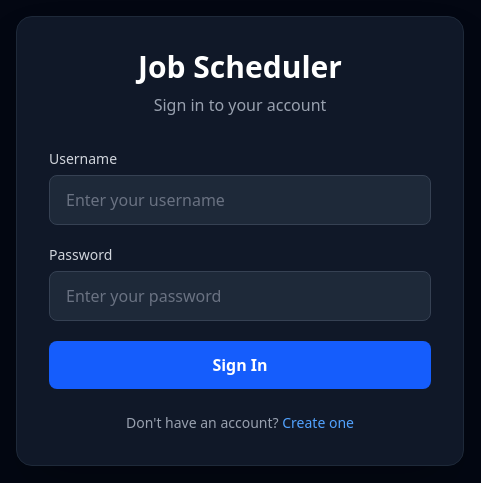
Login Page › shows Signing in... while submitting
This screenshot has width=481, height=483.
Type "test" into the field with placeholder "Enter your username".
click(240, 200); type("test")  # box [49,175,431,225]
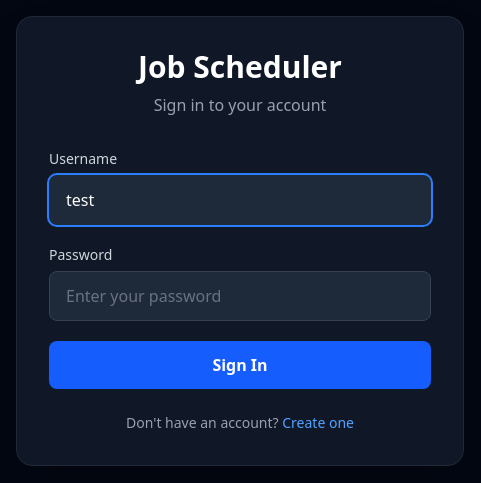
Type "pass" into the password field with placeholder "Enter your password".
click(240, 296); type("pass")  # box [49,271,431,321]
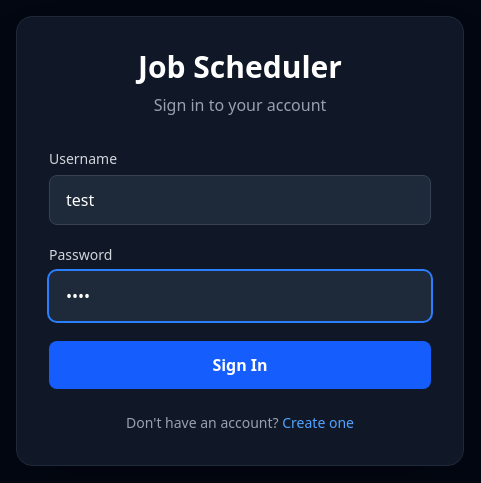
Click the button "Sign In".
click(240, 365)  # box [49,341,431,389]
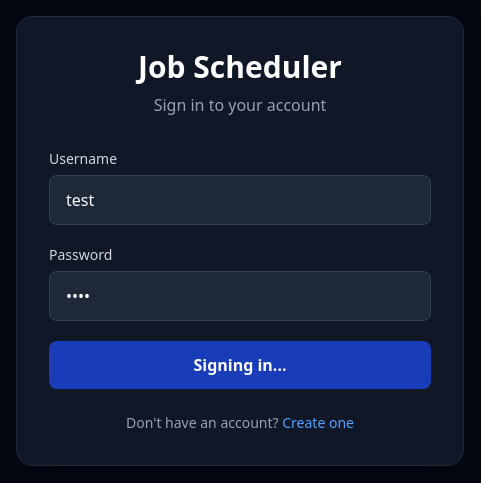
Check: the button "Signing in..." is shown, box [49,341,431,389]
